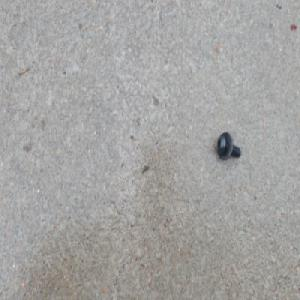BoltWasher: (216, 131, 241, 162)
